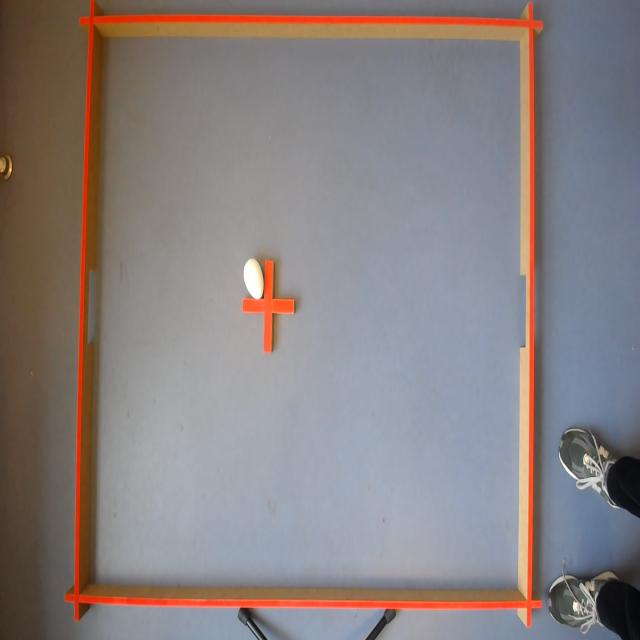cross: (242, 259, 295, 355)
egg: (243, 257, 265, 300)
